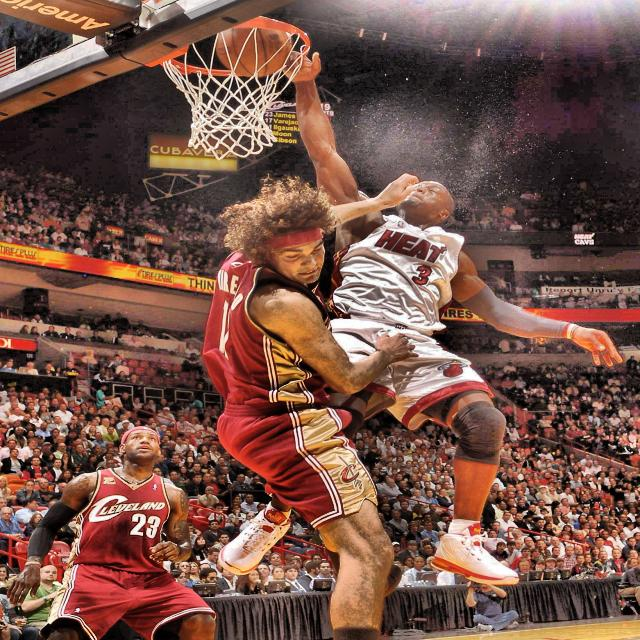rim: (158, 16, 308, 155)
